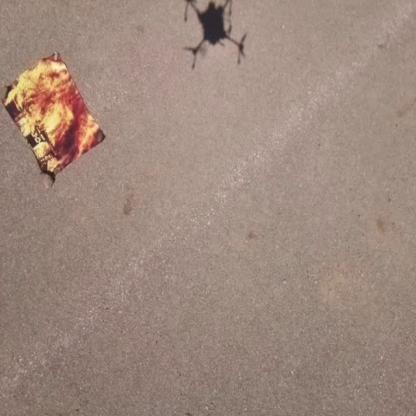fire-poster: (1, 50, 106, 187)
